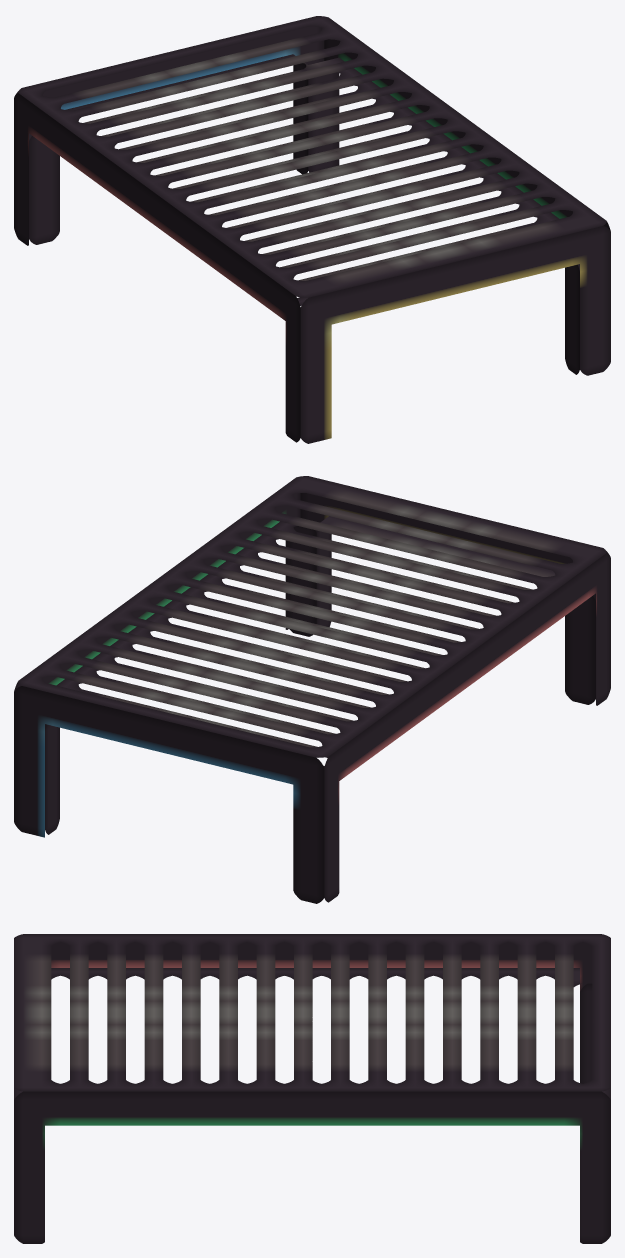
Rendered from bedframe.fbx.
3 renders of one model, top to bottom at view 1: azimuth 30°, elevation 25°; view 2: azimuth 150°, elevation 25°; view 3: azimuth 270°, elevation 25°, orthographic. The views are drawn at different scales.
Visible parts, largest first — view 1: bedframe; view 2: bedframe; view 3: bedframe.
Part boxes in pixels (left/top/right/bottom): bedframe: left=14, top=16, right=610, bottom=443; bedframe: left=14, top=476, right=610, bottom=903; bedframe: left=14, top=934, right=610, bottom=1243.
Size of the model in its own units: 250 by 112 by 400.
